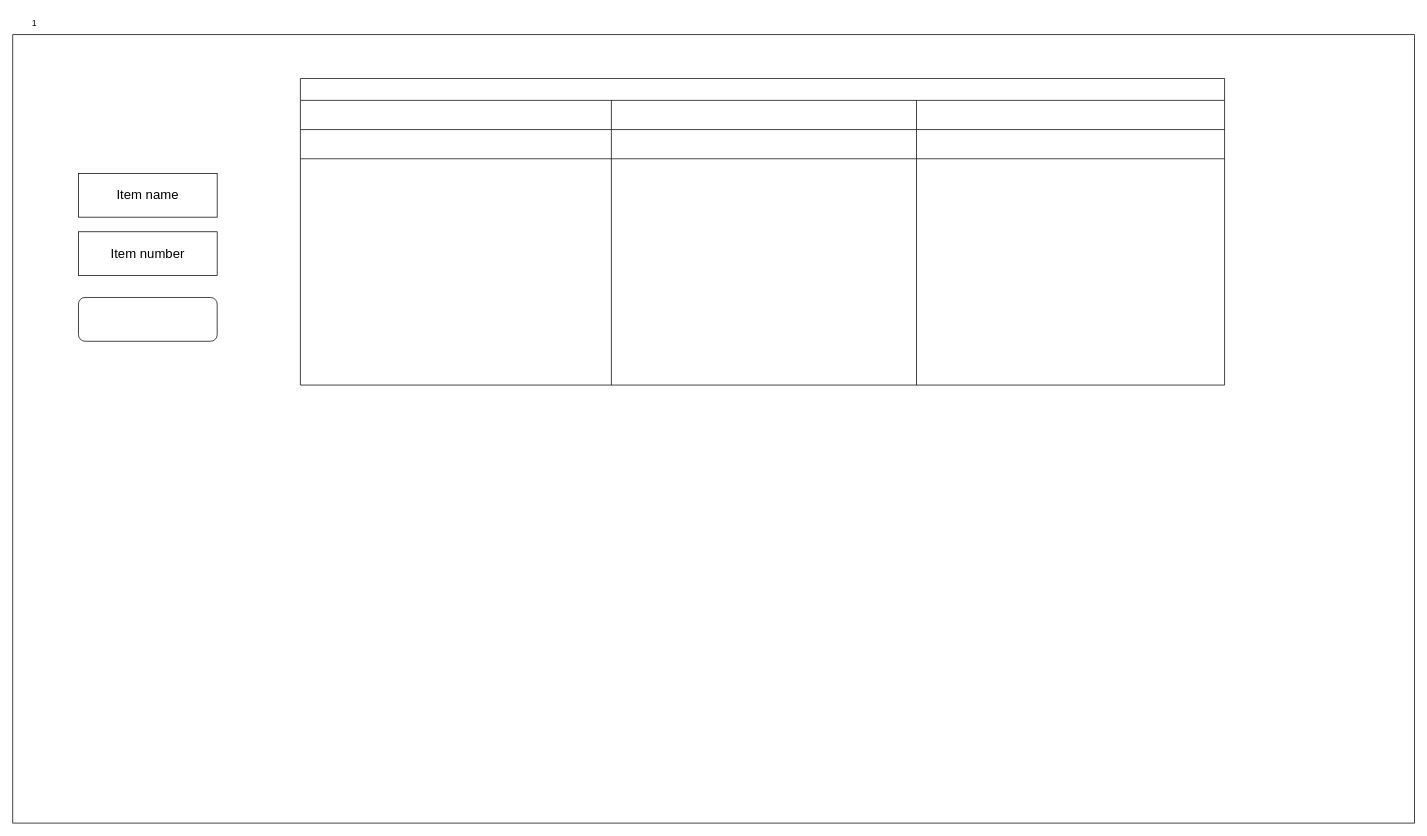
This 1427x836 diagram has some shape labels left out. Here are the shapes that lost their labels. From the top down, the centre of each, then its label:
At (x=762, y=231): "Table".
At (x=147, y=319): "Save".
